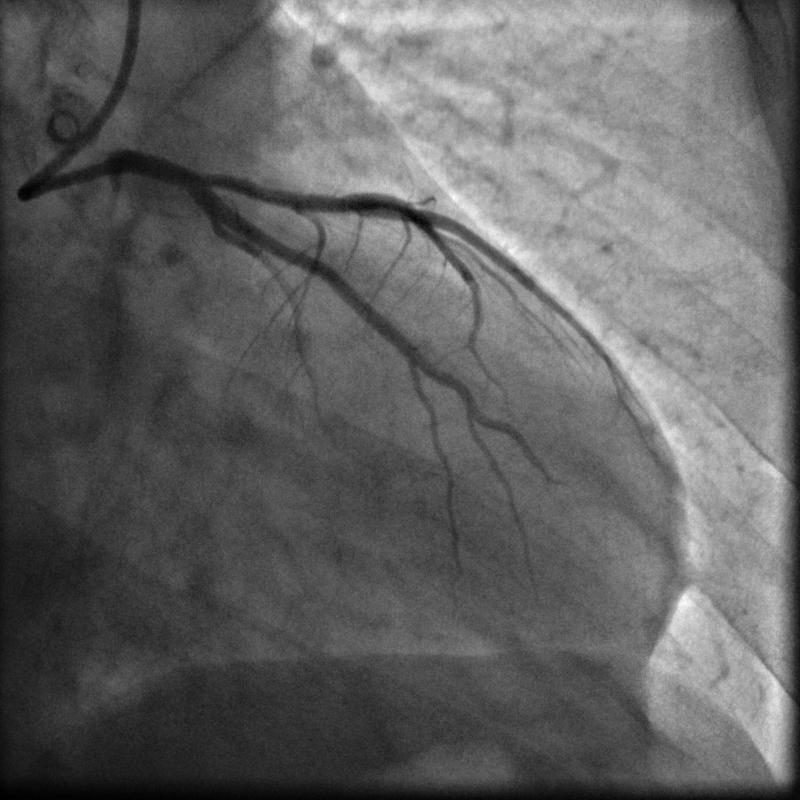Stenosis: (192, 162, 235, 192)
